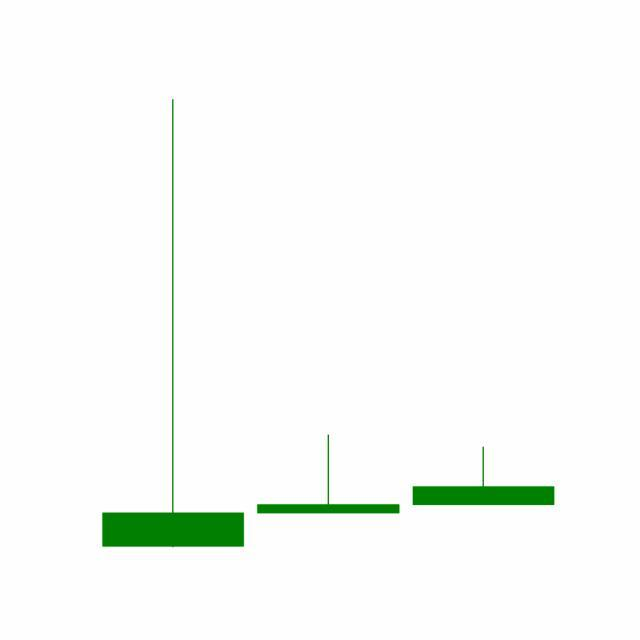Gravestone Doji: (250, 434, 407, 515)
